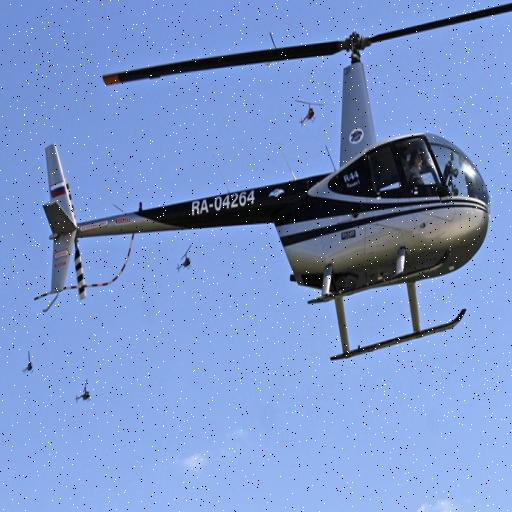helicopter: (27, 1, 512, 378), (15, 344, 52, 390), (294, 94, 328, 135), (72, 373, 100, 413), (173, 244, 200, 282)
